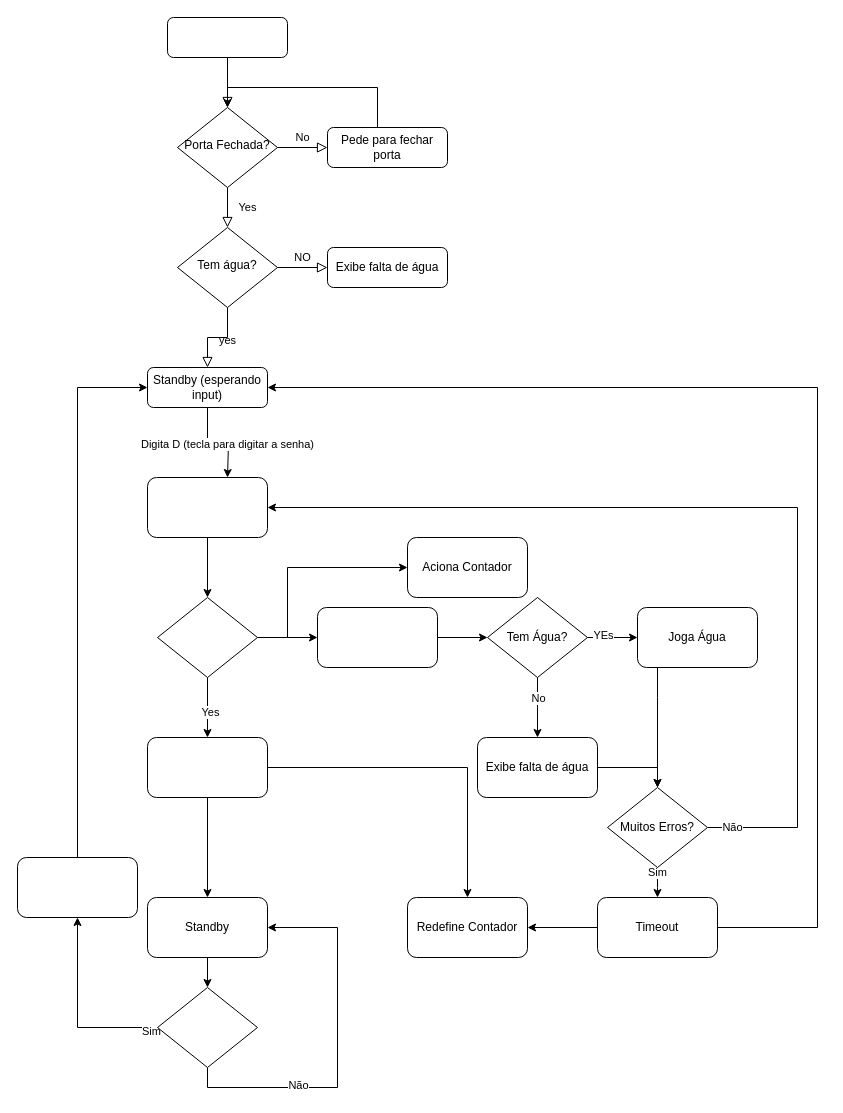
This 843x1113 diagram has some shape labels left out. Here are the shapes that lost their labels. From the top down, the box of each, then its label:
(166, 16, 288, 58): checkBoot
(146, 476, 268, 538): Digitar Senha
(156, 596, 258, 678): Senha Correta?
(316, 606, 438, 668): Aciona Água
(146, 736, 268, 798): Abre Cofre
(16, 856, 138, 918): Fecha Cofre
(156, 986, 258, 1068): Sensor detecta porta fechada
